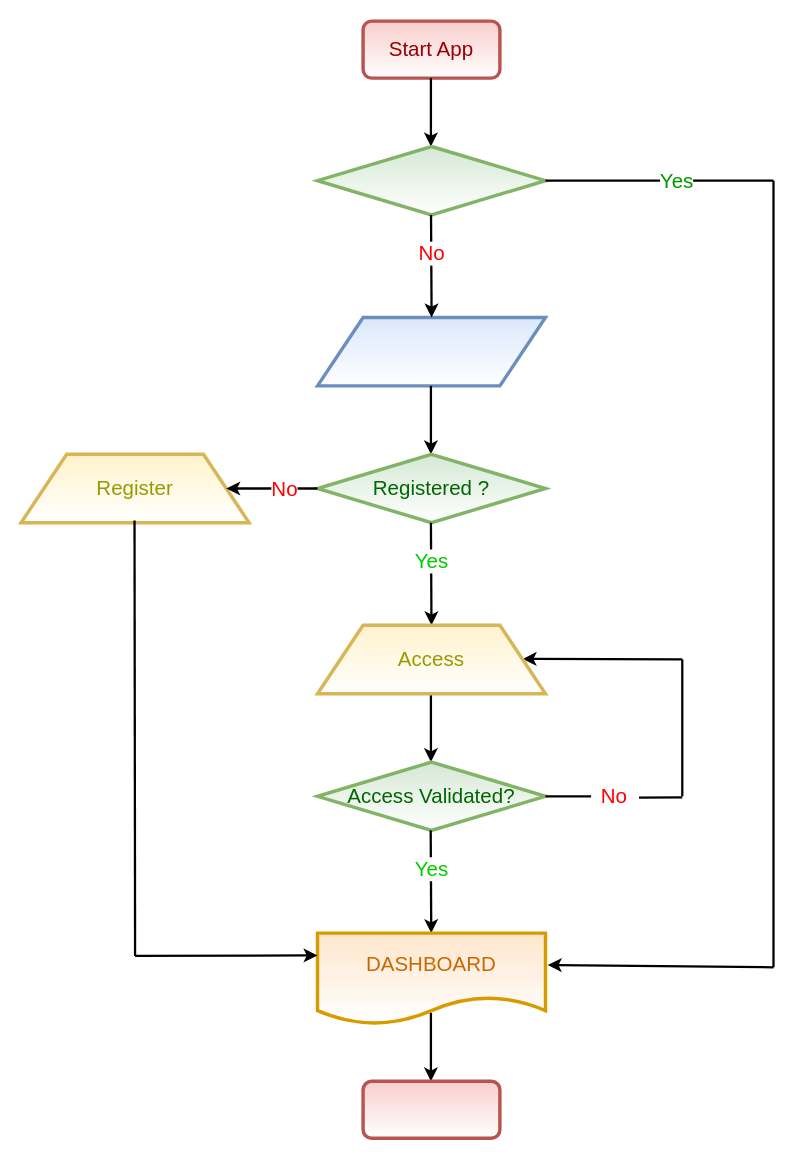
This 804x1159 diagram has some shape labels left out. Here are the shapes that lost their labels. From the top down, the box of each, then its label:
(315, 144, 547, 216): Connected ?
(315, 315, 547, 387): Login
(361, 1079, 501, 1139): Stop App
